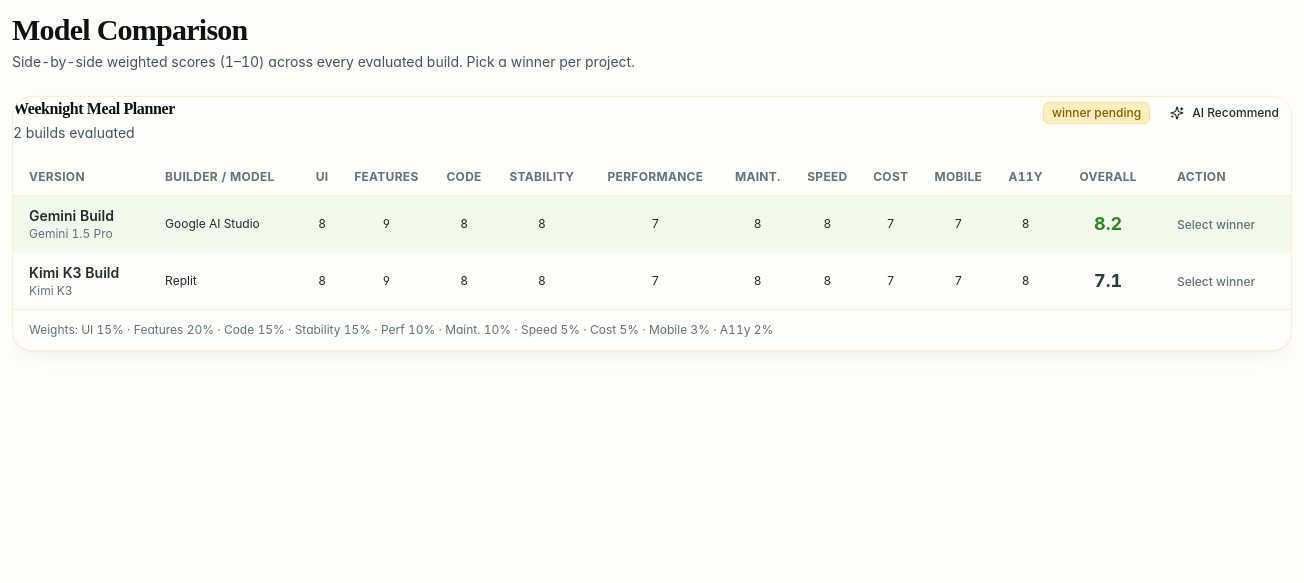
Test: ModelComparisonPage — AI winner recommendation › shows the AI recommendation panel with the recommended version, editable note, and model badge
The width and height of the screenshot is (1304, 583).
Click the button with aria-label "Recommend winner for Weeknight Meal Planner": click(1225, 113) x1=1158 y1=97 x2=1291 y2=129
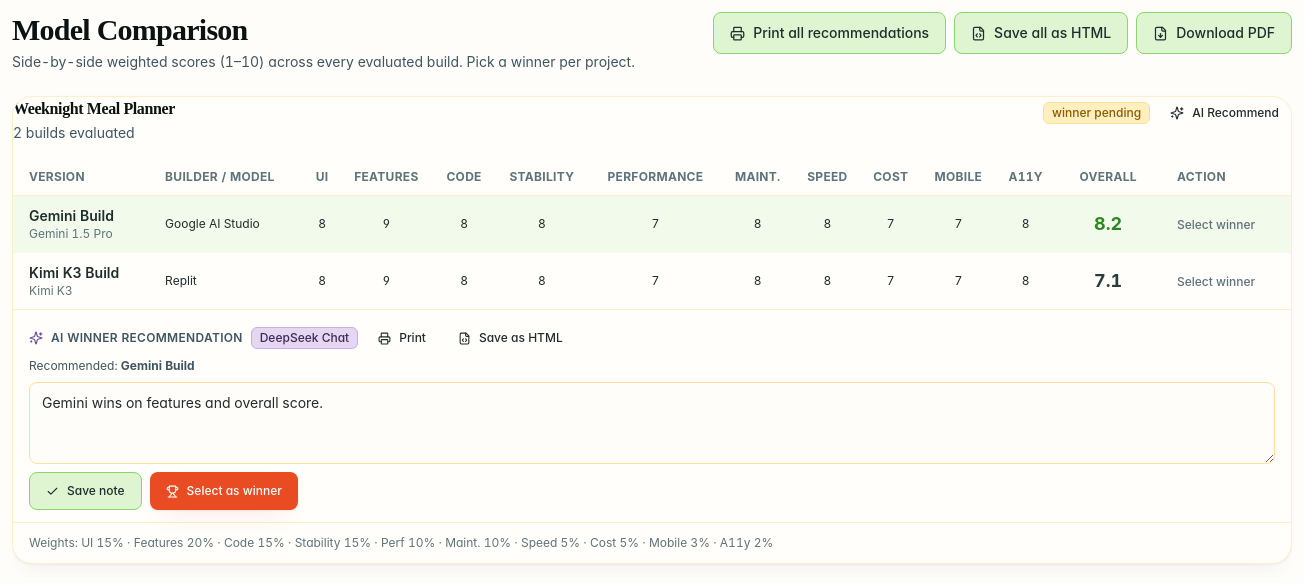
expect the text "AI winner recommendation" is shown: met, box x1=51 y1=330 x2=243 y2=346
expect the text "DeepSeek Chat" is shown: met, box x1=251 y1=327 x2=358 y2=349
expect the text box named "Winner recommendation note for Weeknight Meal Planner" holds "Gemini wins on features and overall score.": met, box x1=29 y1=382 x2=1275 y2=464
